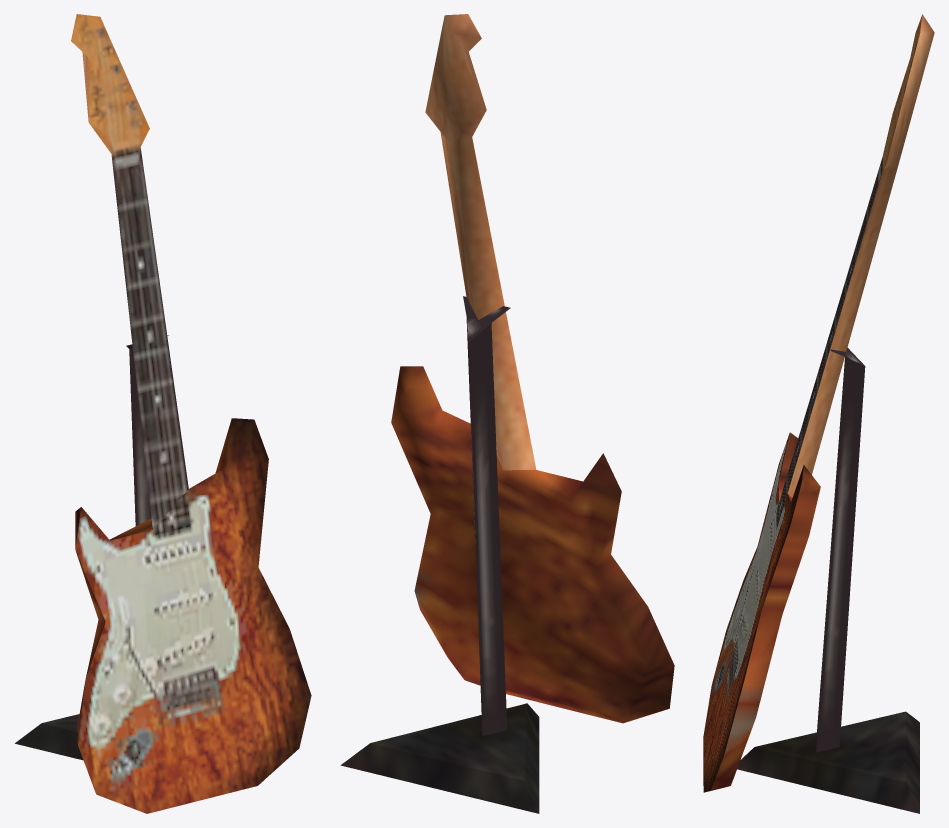
Rendered from guitar_on_stand.fbx.
3 renders of one model, left to right at view 1: azimuth 30°, elevation 25°; view 2: azimuth 150°, elevation 25°; view 3: azimuth 270°, elevation 25°, orthographic. The views are drawn at different scales.
Parts seen in each view (by area): view 1: mesh_0; view 2: mesh_0; view 3: mesh_0.
Boxes of the visible parts, left/top/right/bottom form: mesh_0: left=15, top=14, right=311, bottom=813; mesh_0: left=340, top=14, right=674, bottom=813; mesh_0: left=703, top=14, right=934, bottom=813.
Bounding box in the file's own units: 37.52 × 110 × 31.13.
Materials: 1 (1 with a texture image).
